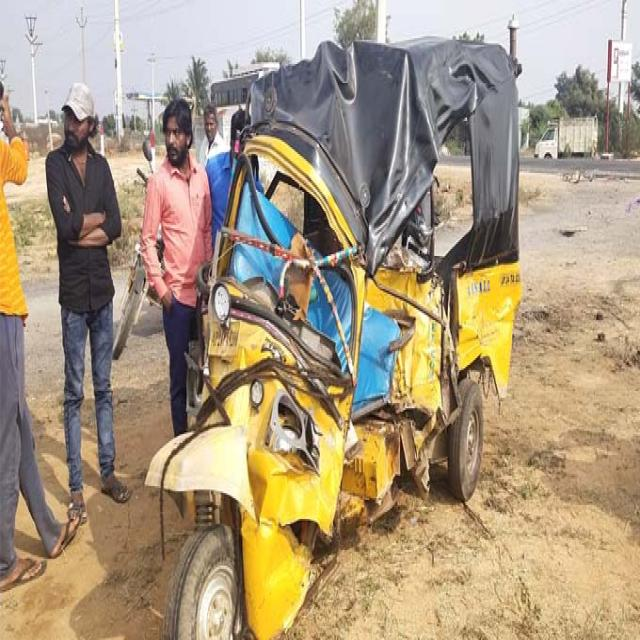accident: (146, 39, 521, 638)
truck: (534, 117, 598, 159)
